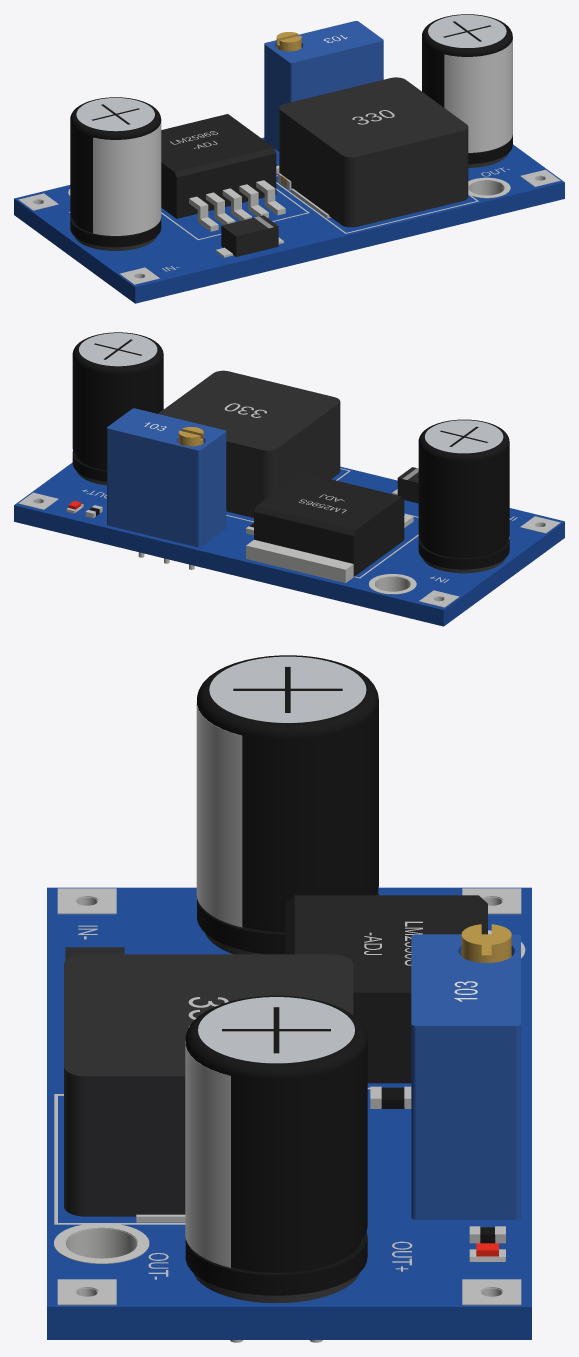
The model's file is lm2596-module.glb.
3 renders of one model, top to bottom at view 1: azimuth 30°, elevation 25°; view 2: azimuth 150°, elevation 25°; view 3: azimuth 270°, elevation 25°, orthographic. The views are drawn at different scales.
Visible parts, largest first — view 1: core, pcb, body, trim_vadj_body, stripe, stripe_1, sleeve, sleeve_1, top, top_1, body_1, silkscreen (+10 smaller); view 2: pcb, core, trim_vadj_body, sleeve, body, sleeve_1, tab, top, top_1, body_1, trim_vadj, part_o1_6_3 (+4 smaller); view 3: pcb, core, sleeve_1, sleeve, trim_vadj_body, body, stripe, stripe_1, top_1, top, part_o1_6_6, trim_vadj (+7 smaller).
Boxes of the visible parts, x1=… form: core: x1=279, y1=77, x2=468, y2=227; pcb: x1=14, y1=137, x2=564, y2=303; body: x1=161, y1=114, x2=276, y2=218; trim_vadj_body: x1=264, y1=21, x2=383, y2=151; stripe: x1=93, y1=121, x2=161, y2=235; stripe_1: x1=444, y1=38, x2=512, y2=152; sleeve: x1=70, y1=97, x2=161, y2=247; sleeve_1: x1=422, y1=14, x2=512, y2=164; top: x1=76, y1=98, x2=154, y2=131; top_1: x1=428, y1=15, x2=506, y2=47; body_1: x1=221, y1=215, x2=278, y2=256; silkscreen: x1=69, y1=167, x2=509, y2=271; pcb: x1=14, y1=462, x2=564, y2=626; core: x1=158, y1=370, x2=340, y2=517; trim_vadj_body: x1=107, y1=408, x2=226, y2=547; sleeve: x1=418, y1=419, x2=509, y2=569; body: x1=254, y1=472, x2=404, y2=576; sleeve_1: x1=72, y1=332, x2=163, y2=481; tab: x1=246, y1=539, x2=353, y2=582; top: x1=425, y1=420, x2=503, y2=453; top_1: x1=79, y1=333, x2=157, y2=366; body_1: x1=397, y1=467, x2=418, y2=503; trim_vadj: x1=178, y1=427, x2=203, y2=446; part_o1_6_3: x1=374, y1=576, x2=410, y2=591; pcb: x1=47, y1=887, x2=531, y2=1339; core: x1=64, y1=954, x2=353, y2=1216; sleeve_1: x1=185, y1=995, x2=367, y2=1295; sleeve: x1=197, y1=655, x2=378, y2=954; trim_vadj_body: x1=411, y1=934, x2=520, y2=1219; body: x1=285, y1=895, x2=487, y2=1083; stripe: x1=196, y1=701, x2=242, y2=927; stripe_1: x1=185, y1=1041, x2=230, y2=1267; top_1: x1=198, y1=997, x2=354, y2=1063; top: x1=209, y1=656, x2=366, y2=722; part_o1_6_6: x1=65, y1=1228, x2=137, y2=1258; trim_vadj: x1=461, y1=924, x2=511, y2=962.
Size of the model in its own units: 0.0436 by 0.015 by 0.0213.
